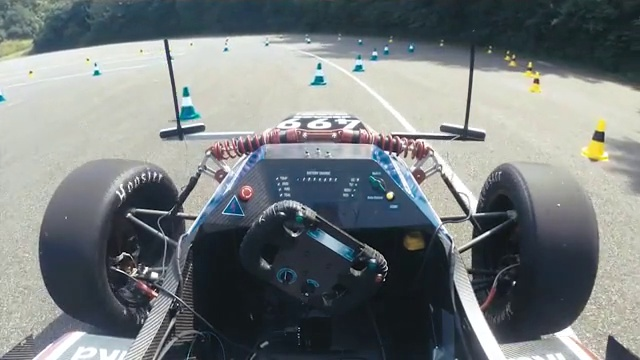Cone: (579, 117, 614, 159), (177, 84, 203, 122), (313, 62, 330, 87), (527, 71, 542, 93), (352, 54, 367, 73)
